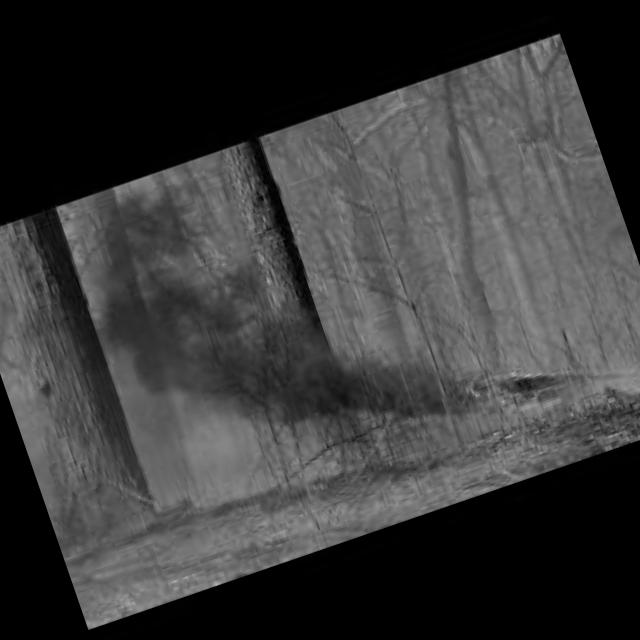fire: (437, 342, 547, 432)
smoke: (60, 154, 273, 386), (242, 346, 455, 482), (134, 316, 352, 438)
